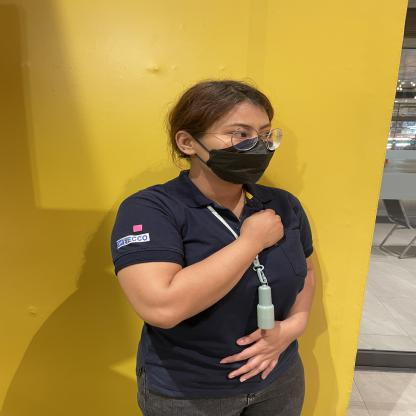Sadness: (110, 199, 332, 328)
